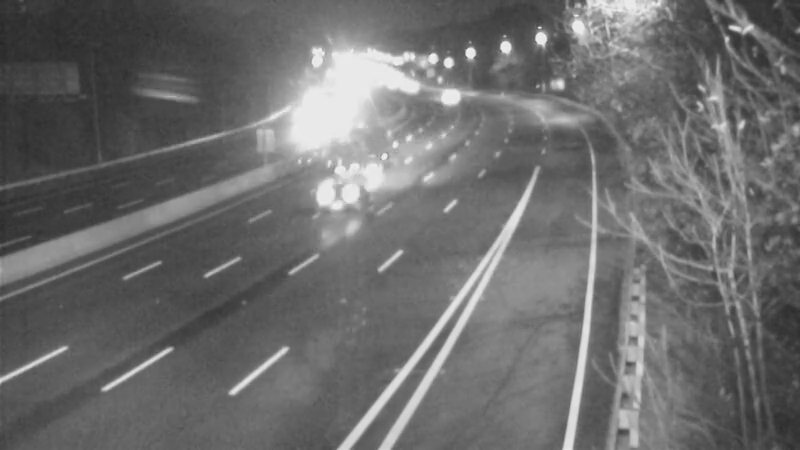vehicle: (297, 152, 377, 232), (330, 121, 380, 171)
